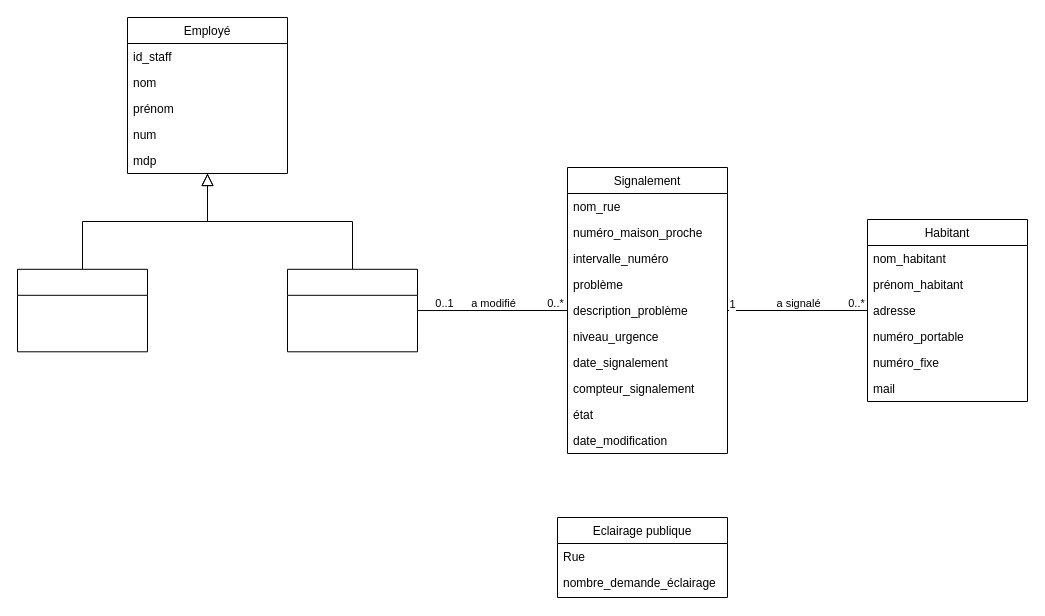
This 1045x616 diagram has some shape labels left out. The centre of each missing label's shape, as x and y in pixels:
"Agent" belongs at [352,310].
"Responsable" belongs at [82,310].
